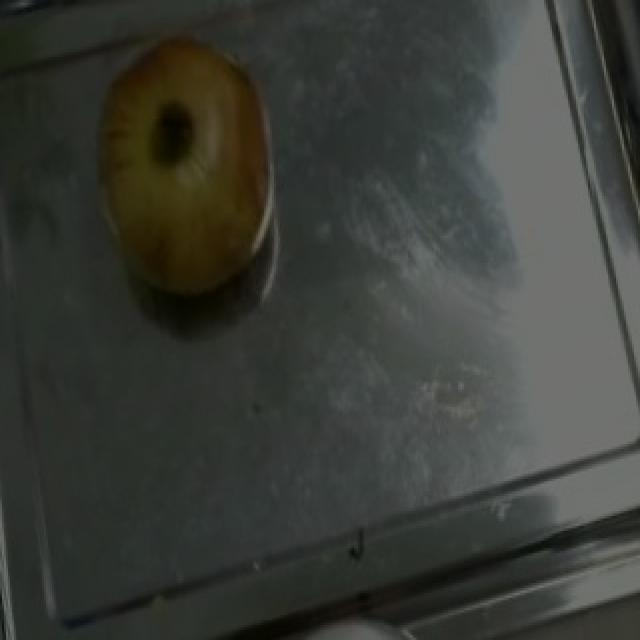fruit: (68, 2, 312, 273)
